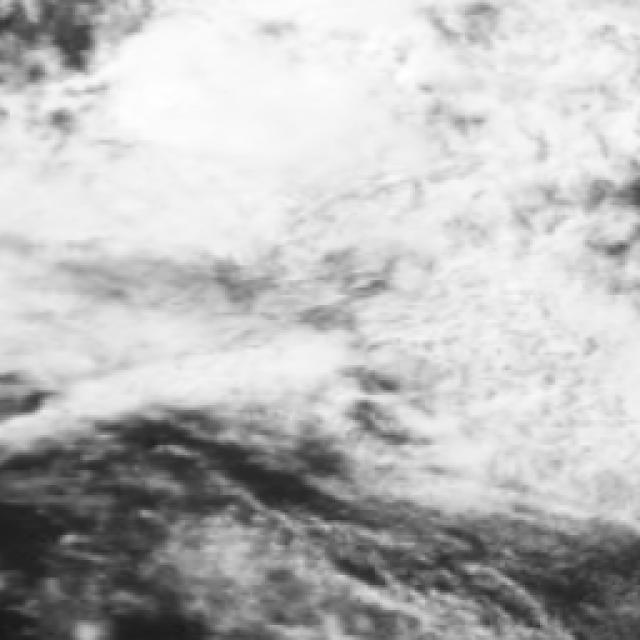CB: (153, 14, 404, 172)
